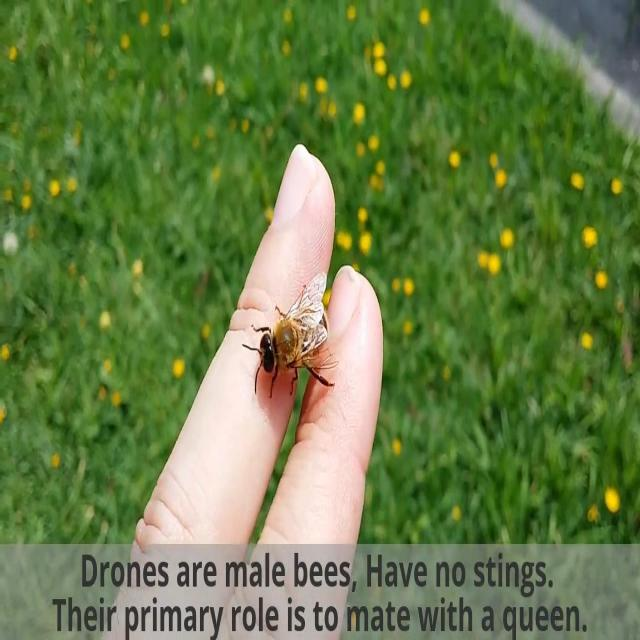honeybee: (250, 299, 326, 397)
